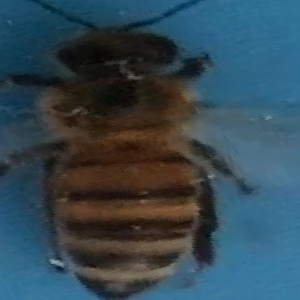bee: (13, 4, 273, 300)
